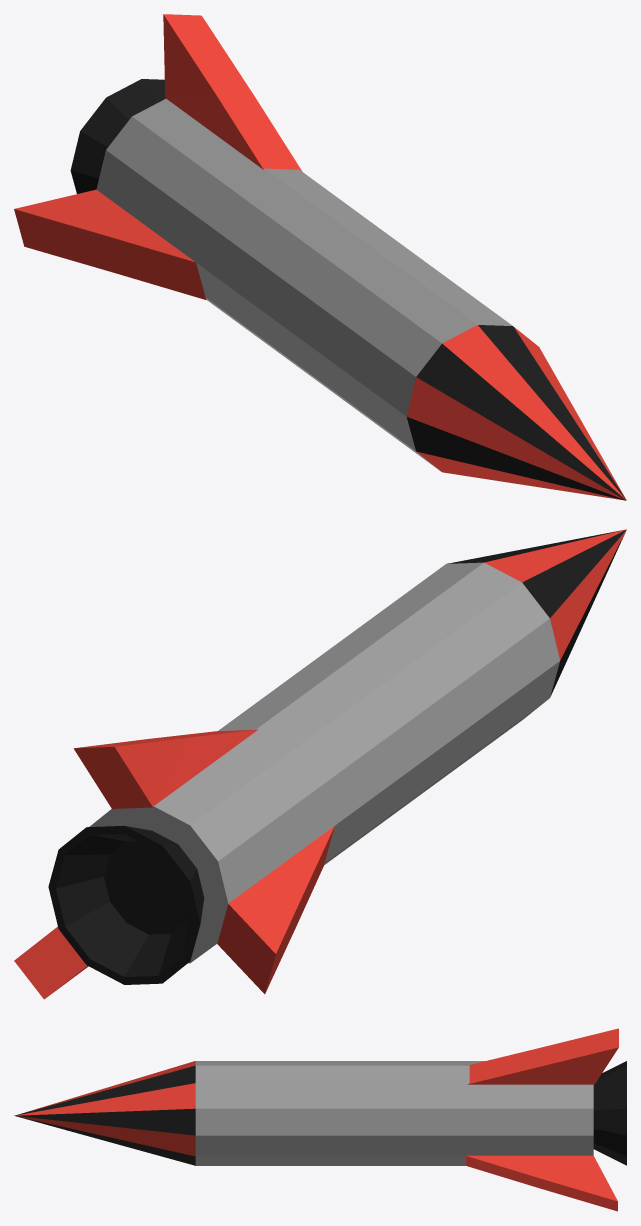
3 renders of one model, top to bottom at view 1: azimuth 30°, elevation 25°; view 2: azimuth 150°, elevation 25°; view 3: azimuth 270°, elevation 25°, orthographic. The views are drawn at different scales.
Parts seen in each view (by area): view 1: mesh_953935305, mesh_1754341251, mesh_541255885, mesh_598714520, mesh_21130371; view 2: mesh_953935305, mesh_21130371, mesh_541255885, mesh_1754341251, mesh_598714520, mesh_334161434; view 3: mesh_953935305, mesh_1754341251, mesh_598714520, mesh_334161434, mesh_21130371.
Part boxes in pixels (<box>): mesh_953935305: <box>96,98,512,469</box>; mesh_1754341251: <box>406,325,626,500</box>; mesh_541255885: <box>14,189,206,299</box>; mesh_598714520: <box>163,14,302,171</box>; mesh_21130371: <box>70,79,165,193</box>; mesh_953935305: <box>89,562,559,963</box>; mesh_21130371: <box>48,825,204,984</box>; mesh_541255885: <box>217,826,334,994</box>; mesh_1754341251: <box>447,529,626,696</box>; mesh_598714520: <box>73,729,257,808</box>; mesh_334161434: <box>14,926,88,999</box>; mesh_953935305: <box>195,1061,593,1165</box>; mesh_1754341251: <box>14,1061,195,1165</box>; mesh_598714520: <box>467,1028,618,1084</box>; mesh_334161434: <box>466,1155,617,1211</box>; mesh_21130371: <box>593,1061,626,1165</box>.
Bounding box in the file's own units: 30.98 × 30.6 × 105.
